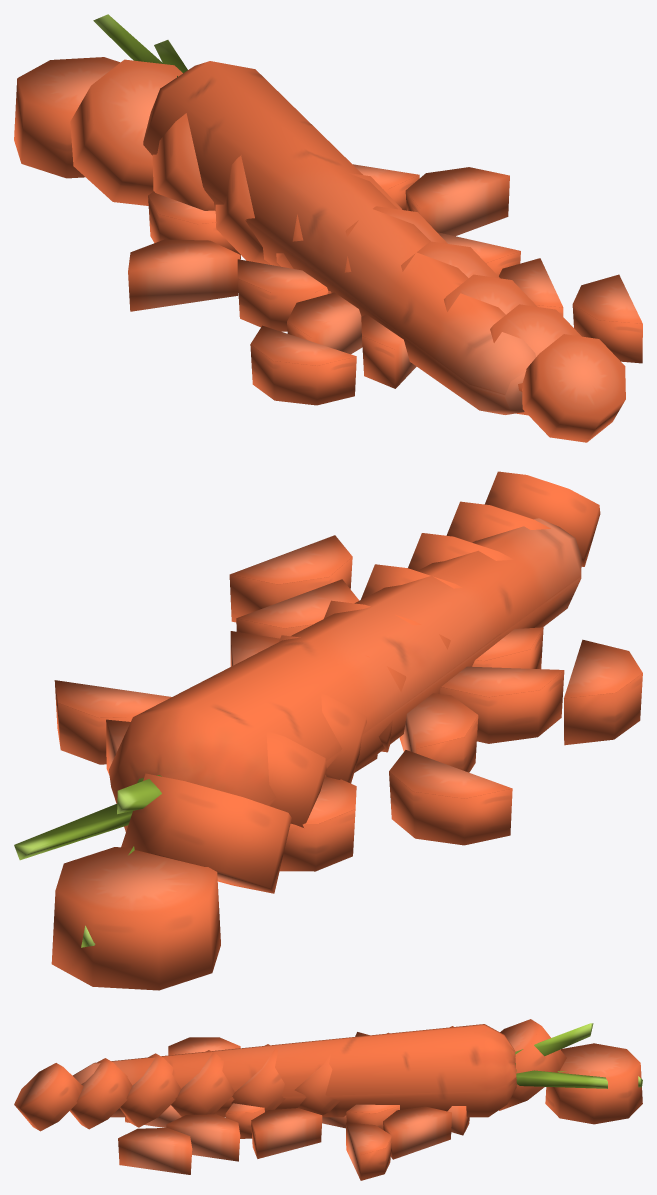
File: carrot.fbx
3 views of the same model, one above another, from view 1: azimuth 30°, elevation 25°; view 2: azimuth 150°, elevation 25°; view 3: azimuth 270°, elevation 25° (orthographic). The views are drawn at different scales.
Parts seen in each view (by area): view 1: carrot_1, carrot_4, carrot_3, carrot_2; view 2: carrot_1, carrot_3, carrot_4, carrot_2; view 3: carrot_3, carrot_1, carrot_4, carrot_2.
Part boxes in pixels (left/top/right/bottom): carrot_1: left=93, top=14, right=535, bottom=394; carrot_4: left=128, top=164, right=642, bottom=405; carrot_3: left=14, top=57, right=625, bottom=442; carrot_2: left=143, top=144, right=525, bottom=414; carrot_1: left=14, top=518, right=581, bottom=947; carrot_3: left=51, top=471, right=600, bottom=990; carrot_4: left=54, top=535, right=642, bottom=871; carrot_2: left=109, top=565, right=581, bottom=831; carrot_3: left=14, top=1019, right=642, bottom=1131; carrot_1: left=72, top=1023, right=642, bottom=1097; carrot_4: left=118, top=1032, right=469, bottom=1180; carrot_2: left=110, top=1077, right=516, bottom=1117.
Size of the model in its own units: 0.0767 by 0.0266 by 0.1654.
